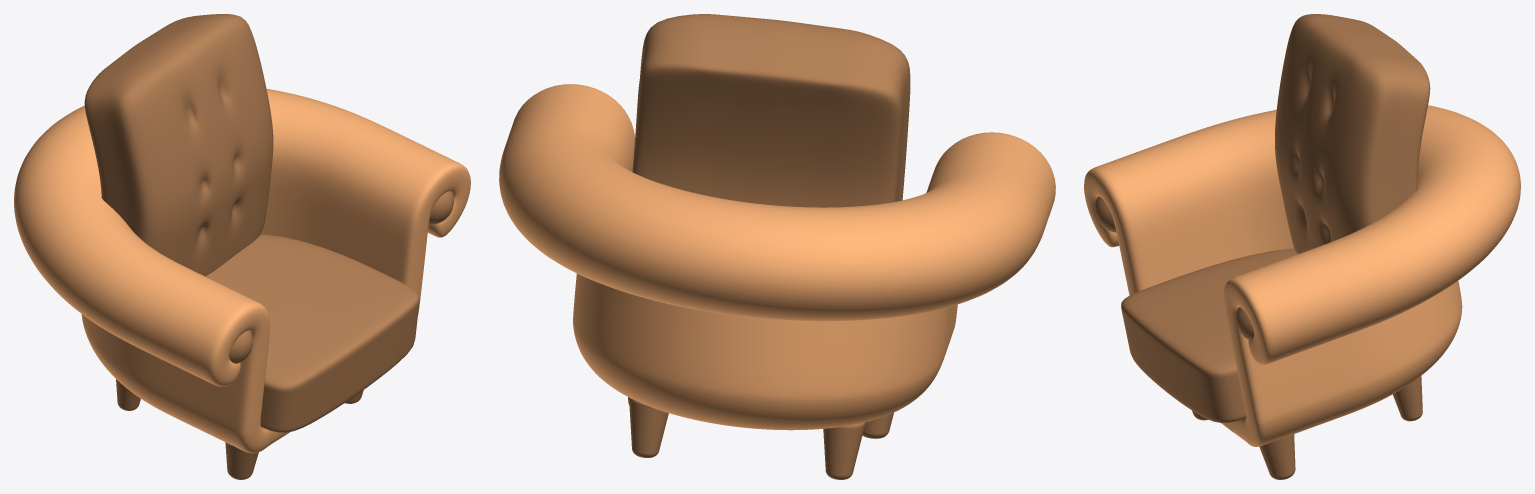
File: Sofa.fbx
3 renders of one model, left to right at view 1: azimuth 30°, elevation 25°; view 2: azimuth 150°, elevation 25°; view 3: azimuth 270°, elevation 25°, orthographic. The views are drawn at different scales.
Parts seen in each view (by area): view 1: Torus.012, Cube.197, Cube.164, Cylinder.068, Sphere.026, Sphere.027, Cylinder.070; view 2: Torus.012, Cube.197, Cylinder.070, Cylinder.071; view 3: Torus.012, Cube.197, Cube.164, Cylinder.069, Cylinder.071, Sphere.027.
Part boxes in pixels (x1,y1,x2,y2): Torus.012: [14, 89, 470, 453]; Cube.197: [84, 14, 273, 276]; Cube.164: [205, 234, 419, 432]; Cylinder.068: [225, 442, 258, 479]; Sphere.026: [428, 191, 453, 224]; Sphere.027: [229, 330, 252, 363]; Cylinder.070: [116, 379, 140, 410]; Torus.012: [499, 84, 1055, 430]; Cube.197: [632, 14, 910, 207]; Cylinder.070: [823, 422, 865, 479]; Cylinder.071: [629, 397, 668, 457]; Torus.012: [1084, 105, 1520, 446]; Cube.197: [1275, 14, 1430, 253]; Cube.164: [1121, 248, 1297, 422]; Cylinder.069: [1259, 434, 1295, 479]; Cylinder.071: [1393, 376, 1422, 421]; Sphere.027: [1095, 196, 1116, 232].
Size of the model in its own units: 542 by 487 by 497.
